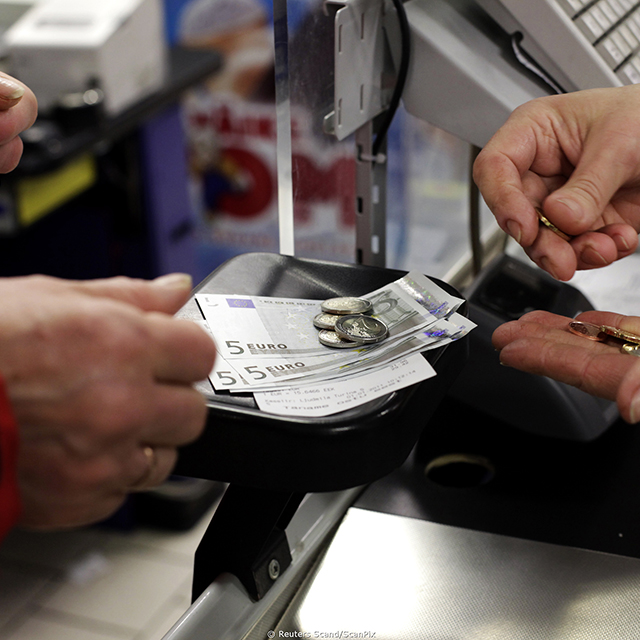banknotes: (194, 269, 479, 394)
